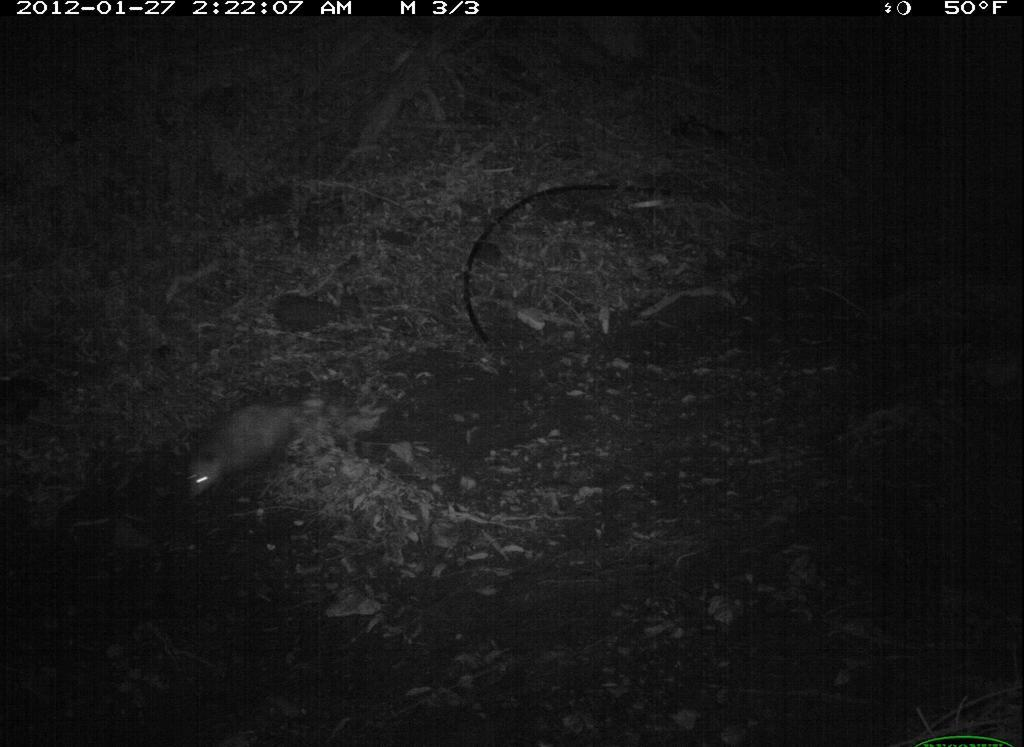opossum: (166, 380, 362, 518)
